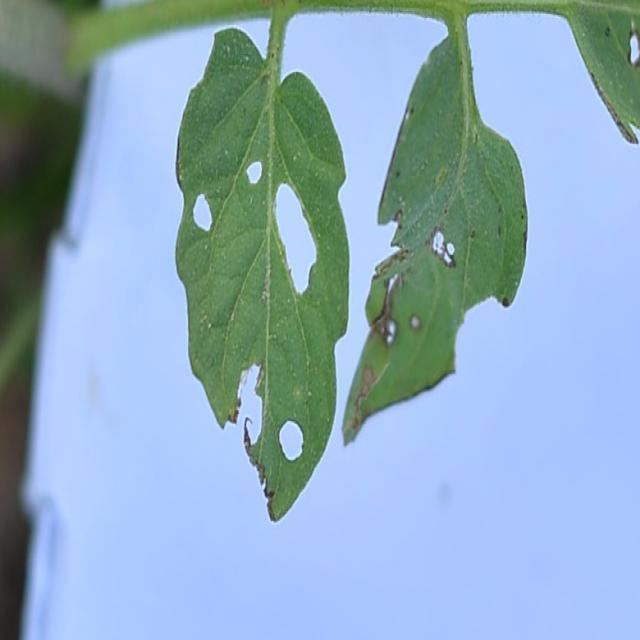infected: (177, 138, 322, 524), (342, 96, 463, 453), (582, 13, 640, 161)
